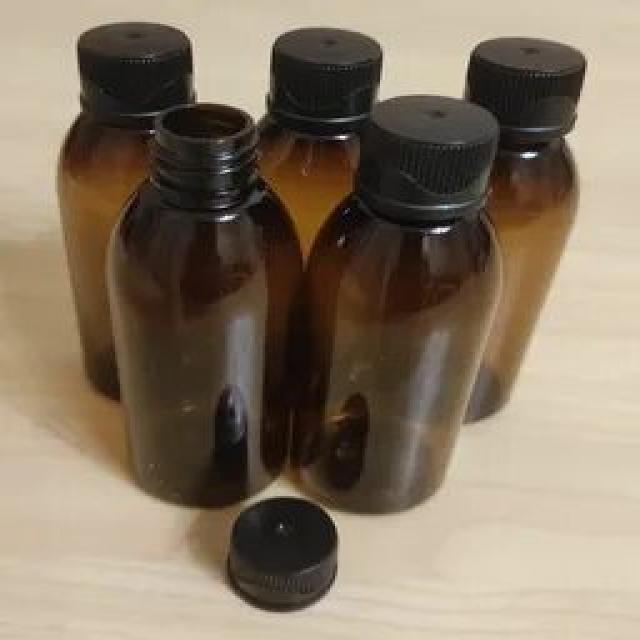brown: (106, 103, 300, 507)
